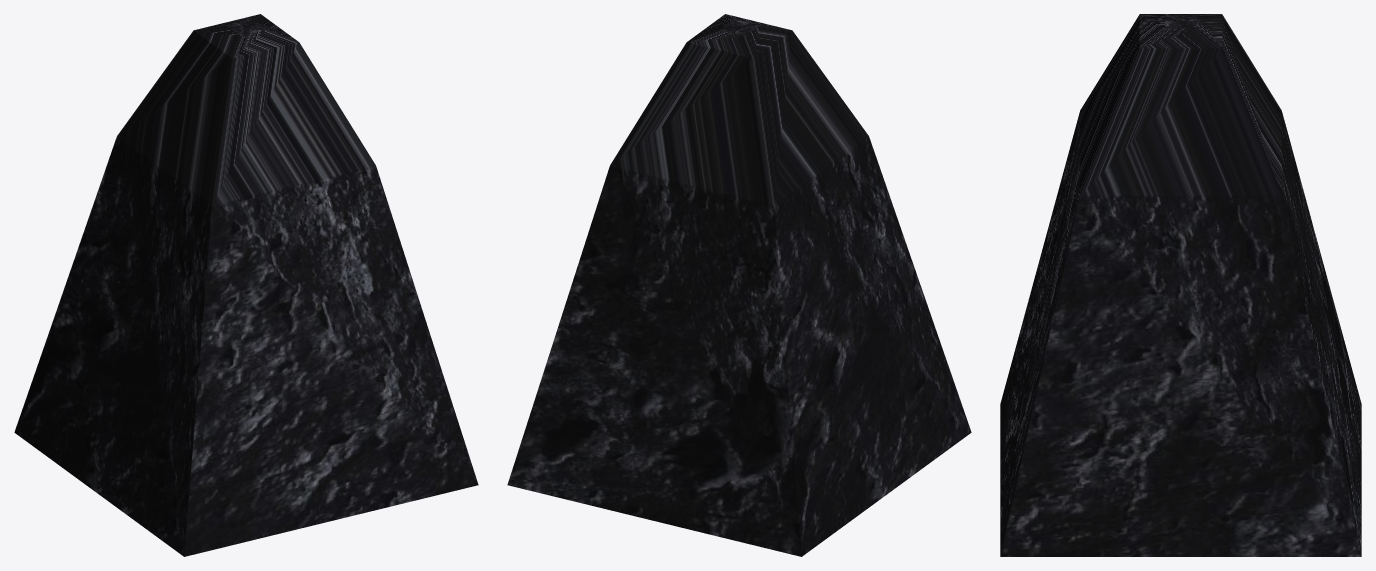
File: black.fbx
The picture shows the model from 3 angles, left to right: view 1: azimuth 30°, elevation 25°; view 2: azimuth 150°, elevation 25°; view 3: azimuth 270°, elevation 25°; orthographic projection. The views are drawn at different scales.
Parts seen in each view (by area): view 1: Cube; view 2: Cube; view 3: Cube.
Boxes of the visible parts, x1,y1,x2,y2 form: Cube: (14,14,478,556); Cube: (507,14,971,556); Cube: (1000,14,1361,556).
Size of the model in its own units: 200 by 280 by 200.
